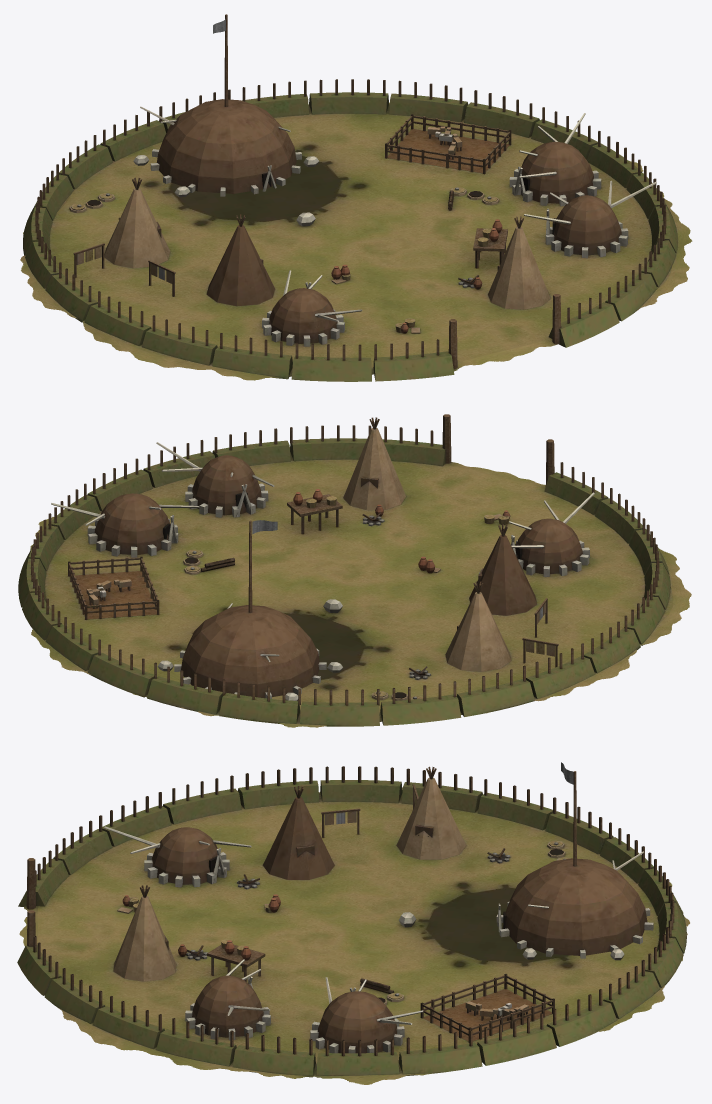
The model's file is stone-town-small-b-steppe.glb.
3 renders of one model, top to bottom at view 1: azimuth 30°, elevation 25°; view 2: azimuth 150°, elevation 25°; view 3: azimuth 270°, elevation 25°, orthographic. The views are drawn at different scales.
Visible parts, largest first — view 1: LOD0; view 2: LOD0; view 3: LOD0.
Boxes of the visible parts, x1,y1,x2,y2 form: LOD0: (20,14,692,381); LOD0: (18,414,691,727); LOD0: (17,762,689,1084).
Size of what is drawn, in the model's own units: 3.99 by 0.9743 by 3.8.
3 materials, 3 textured.
